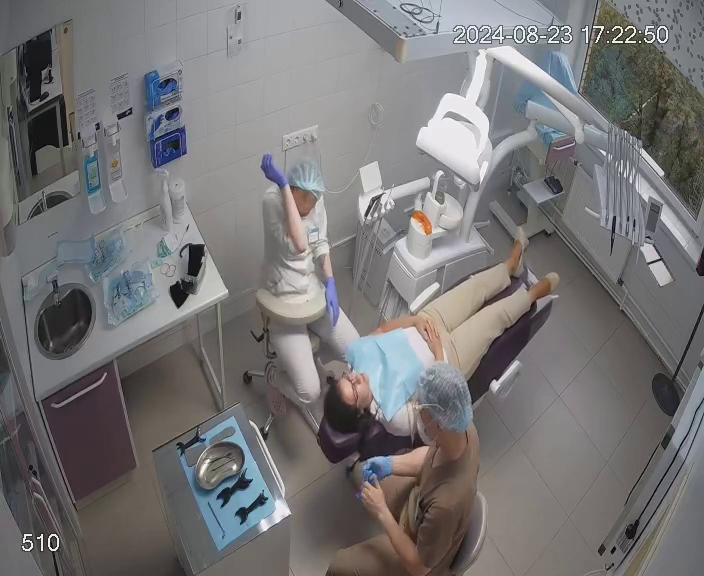Patient: (312, 226, 559, 464)
